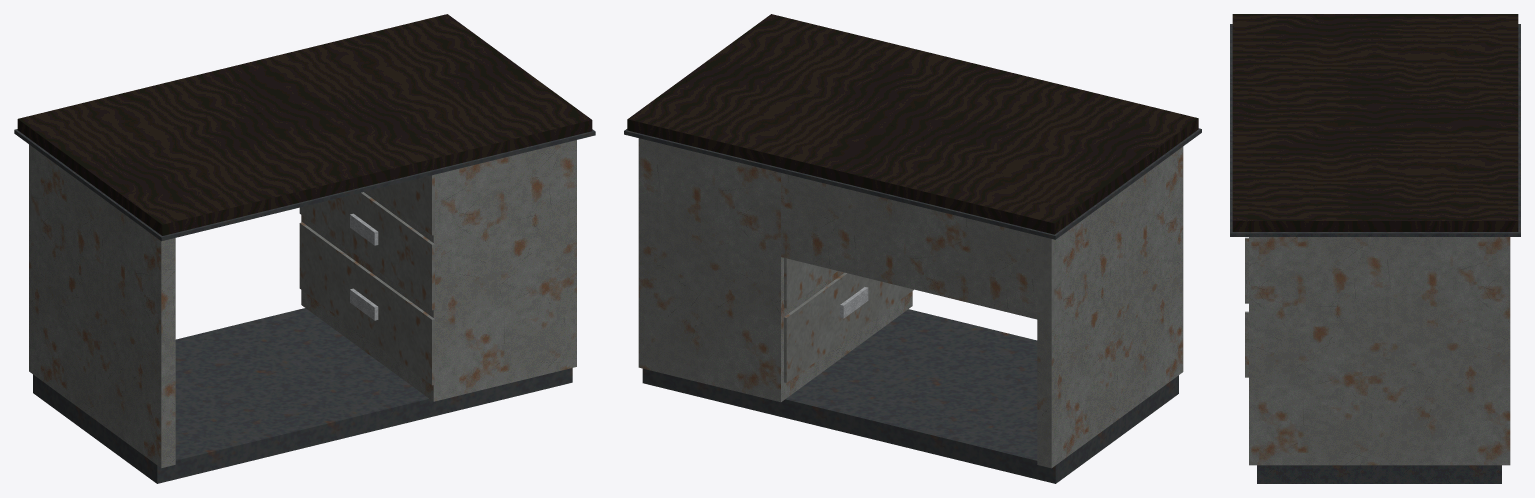
The model's file is office_desk.glb.
3 views of the same model, side by side, from view 1: azimuth 30°, elevation 25°; view 2: azimuth 150°, elevation 25°; view 3: azimuth 270°, elevation 25° (orthographic).
Visible parts, largest first — view 1: office_desk; view 2: office_desk; view 3: office_desk.
Boxes of the visible parts, left/top/right/bottom form: office_desk: left=14, top=14, right=595, bottom=483; office_desk: left=624, top=14, right=1201, bottom=483; office_desk: left=1230, top=14, right=1520, bottom=483.
Bounding box in the file's own units: 1.21 × 0.72 × 0.712.
4 materials, 4 textured.
